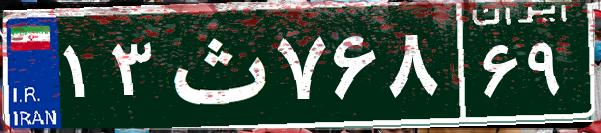1: (57, 26, 110, 107)
3: (110, 28, 158, 105)
6: (330, 28, 385, 110), (475, 38, 525, 113)
7: (273, 28, 330, 110)
8: (385, 28, 445, 110)
9: (525, 38, 570, 115)
ث: (158, 15, 273, 115)
